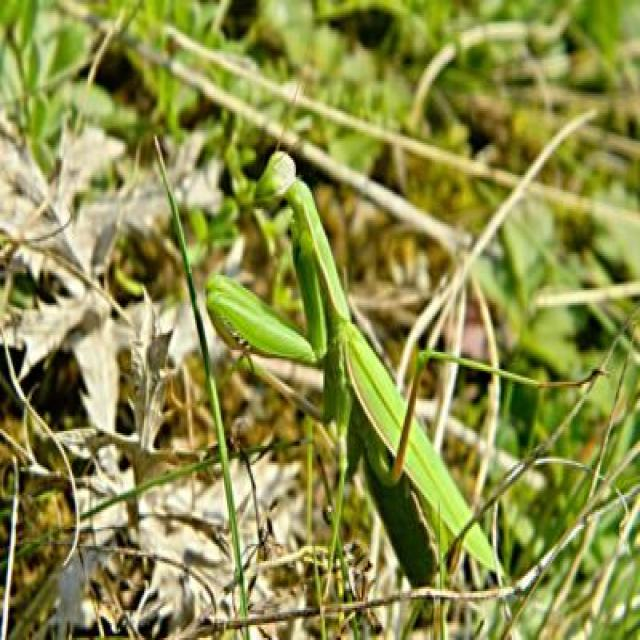antennae: (279, 75, 307, 154)
body: (258, 155, 437, 589)
insect: (201, 73, 604, 615)
legs: (374, 337, 606, 497), (210, 246, 327, 382), (302, 373, 359, 590)
mouthpart: (250, 182, 270, 211)
wings: (343, 323, 498, 567)
